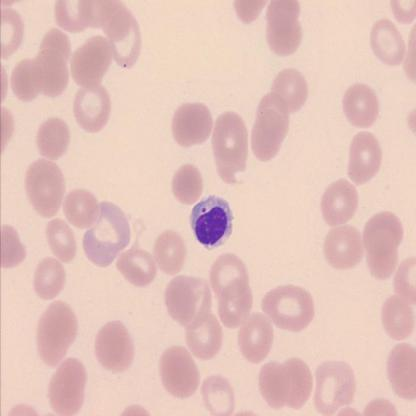NRC: (189, 192, 234, 250)
